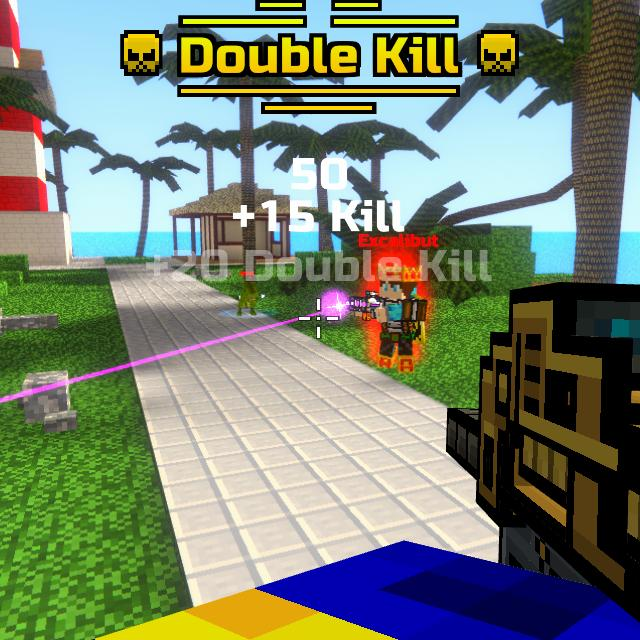Enemy: (366, 264, 429, 371)
